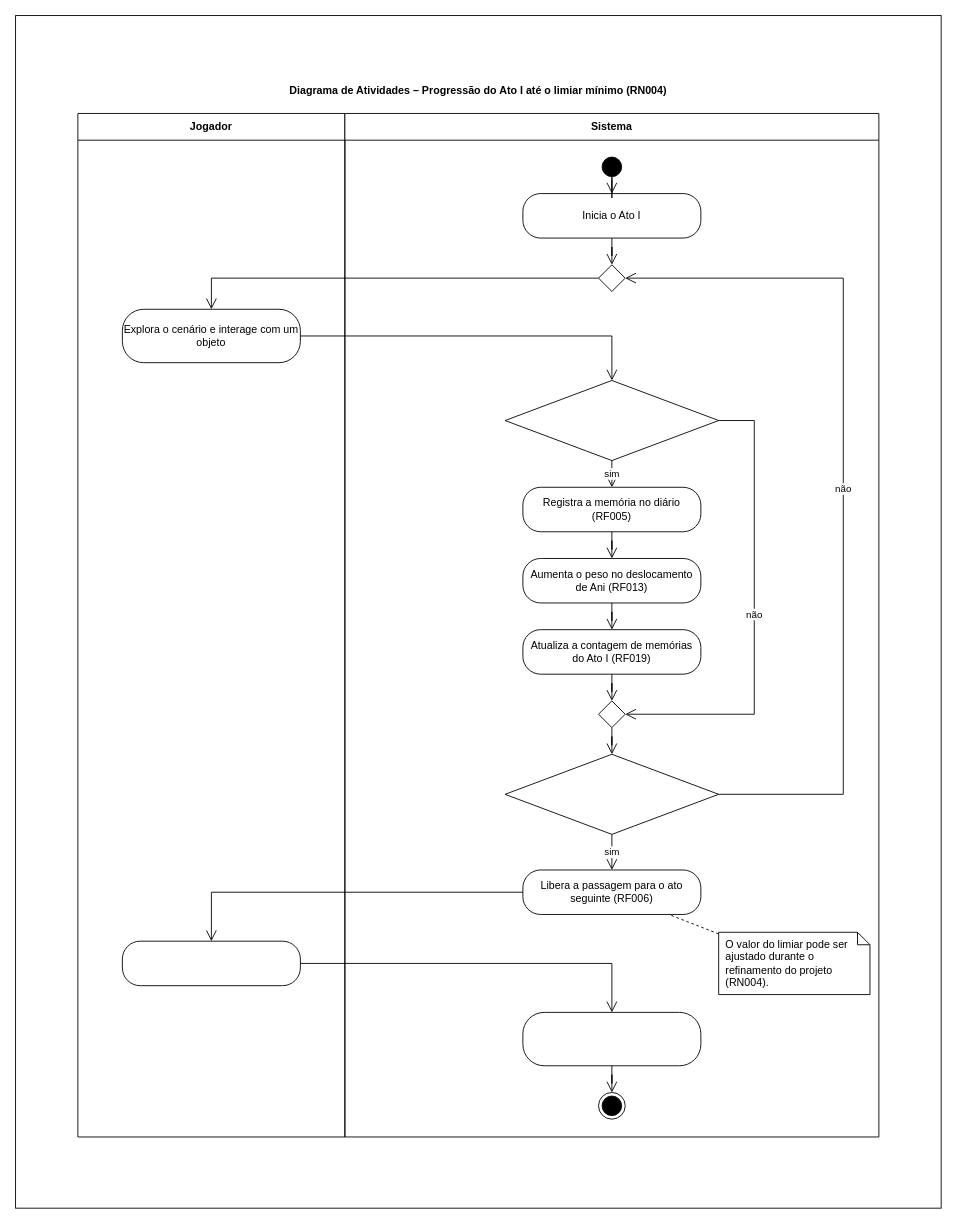
Some shapes in this 957 by 1224 pixel diagram are drawn without their labels. Here are the shapes that lost their labels. From the top down, the centre of each, then its label:
At point (611, 420): "Objeto de memória ainda não registrado? (RN001)".
At point (611, 793): "Contagem atingiu o limiar mínimo? (RN004)".
At point (210, 963): "Atravessa a passagem".
At point (611, 1038): "Conclui o Ato I e inicia o Ato II (RN002, RN003)".
